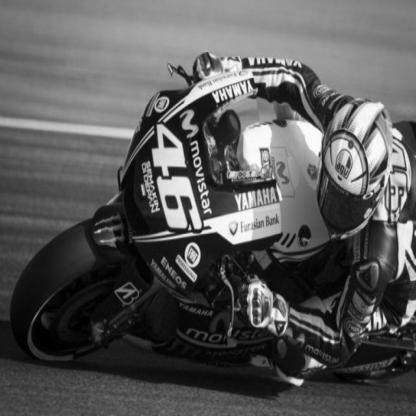moto: (13, 62, 416, 369)
